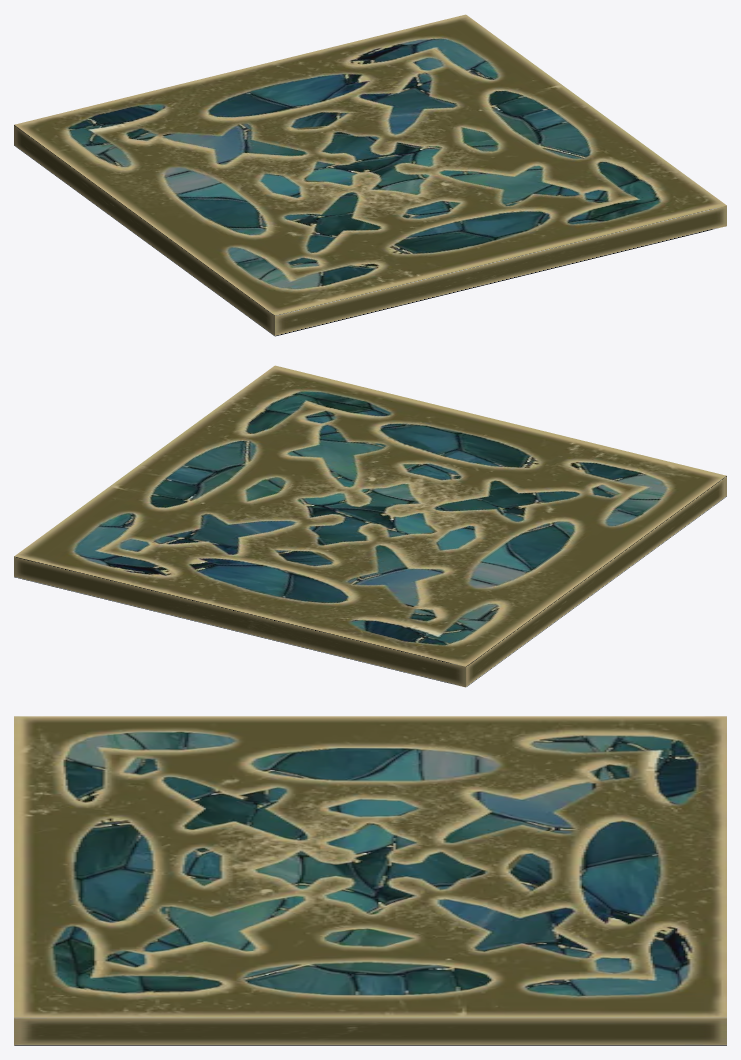
The model's file is tile3Compressed.glb.
3 renders of one model, top to bottom at view 1: azimuth 30°, elevation 25°; view 2: azimuth 150°, elevation 25°; view 3: azimuth 270°, elevation 25°, orthographic. The views are drawn at different scales.
Visible parts, largest first — view 1: tile3; view 2: tile3; view 3: tile3.
Boxes of the visible parts, box(x1,y1,x2,y2) form: tile3: box(14, 14, 726, 336); tile3: box(14, 365, 726, 687); tile3: box(14, 716, 726, 1045).
Bounding box in the file's own units: 1 × 0.16 × 1.
Materials: 2 (1 with a texture image).
